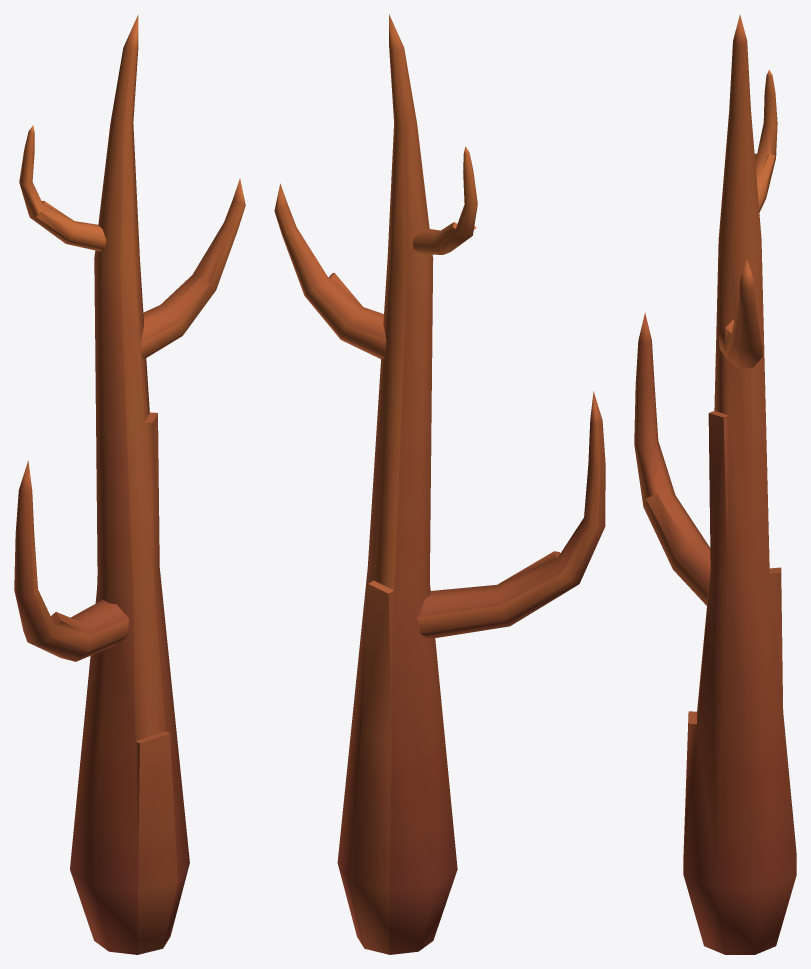
The model's file is Tree_Bare_2_A.glb.
The picture shows the model from 3 angles, left to right: view 1: azimuth 30°, elevation 25°; view 2: azimuth 150°, elevation 25°; view 3: azimuth 270°, elevation 25°; orthographic projection.
Visible parts, largest first — view 1: Tree_Bare_2_A_Color1; view 2: Tree_Bare_2_A_Color1; view 3: Tree_Bare_2_A_Color1.
Boxes of the visible parts, x1,y1,x2,y2 form: Tree_Bare_2_A_Color1: [14, 15, 245, 954]; Tree_Bare_2_A_Color1: [274, 14, 605, 954]; Tree_Bare_2_A_Color1: [634, 14, 796, 954].
Bounding box in the file's own units: 1.2 × 3.84 × 0.6.
Materials: 1 (1 with a texture image).
